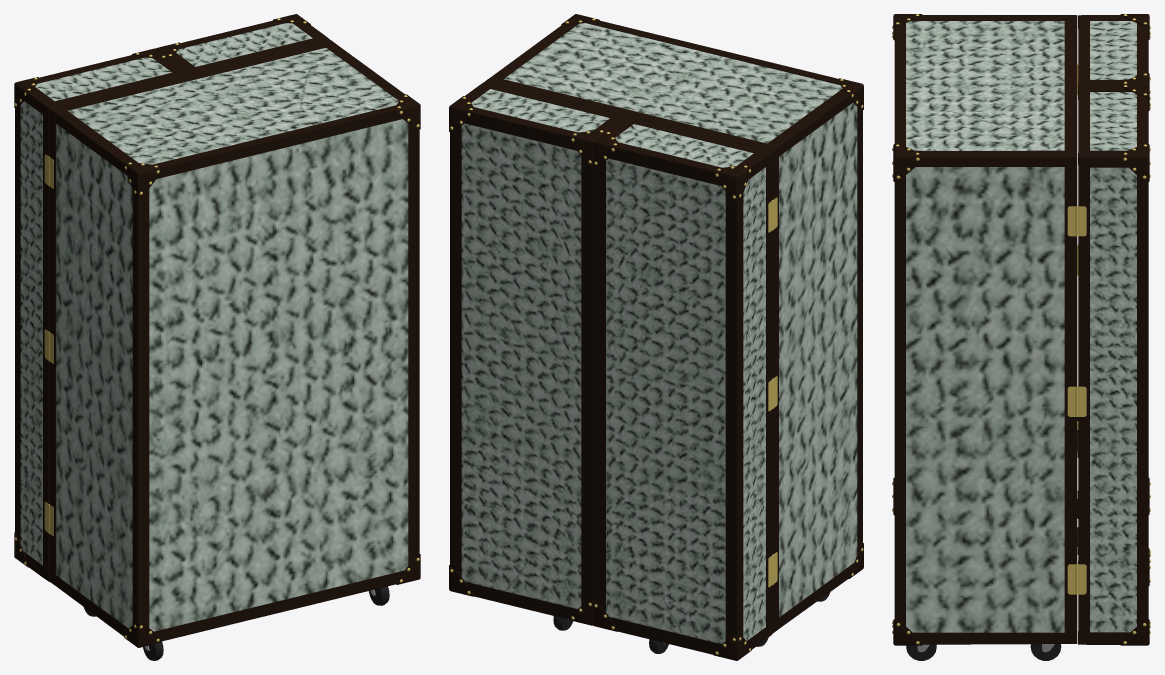
The model's file is bar_cabinet.dae.
3 renders of one model, left to right at view 1: azimuth 30°, elevation 25°; view 2: azimuth 150°, elevation 25°; view 3: azimuth 270°, elevation 25°, orthographic. The views are drawn at different scales.
Visible parts, largest first — view 1: bar_cabinet, body_trim, L_door, L_door_trim, R_door, body_corners, R_door_trim, L_door_corners; view 2: L_door, R_door, bar_cabinet, L_door_trim, R_door_trim, body_trim, L_door_corners, R_door_corners, body_corners; view 3: bar_cabinet, R_door, body_trim, R_door_trim, L_door, L_door_trim, body_corners, R_door_corners, R_hinge_plate_door, hinge_plate_fixed, L_door_corners.
Boxes of the visible parts, x1,y1,x2,y2 form: bar_cabinet: [56, 48, 408, 631]; body_trim: [49, 40, 419, 641]; L_door: [20, 57, 171, 564]; L_door_trim: [15, 55, 189, 581]; R_door: [176, 23, 312, 66]; body_corners: [124, 94, 420, 647]; R_door_trim: [170, 20, 330, 74]; L_door_corners: [14, 48, 169, 567]; L_door: [606, 124, 765, 644]; R_door: [461, 89, 609, 608]; bar_cabinet: [504, 23, 857, 617]; L_door_trim: [593, 116, 772, 654]; R_door_trim: [450, 81, 627, 619]; body_trim: [485, 20, 862, 633]; L_door_corners: [593, 131, 751, 660]; R_door_corners: [449, 96, 606, 625]; body_corners: [561, 14, 863, 578]; bar_cabinet: [906, 21, 1064, 632]; R_door: [1090, 92, 1136, 632]; body_trim: [894, 15, 1077, 644]; R_door_trim: [1078, 85, 1148, 644]; L_door: [1090, 21, 1136, 79]; L_door_trim: [1078, 15, 1148, 563]; body_corners: [892, 14, 922, 645]; R_door_corners: [1120, 85, 1150, 645]; R_hinge_plate_door: [1077, 205, 1086, 594]; hinge_plate_fixed: [1067, 206, 1075, 594]; L_door_corners: [1120, 14, 1150, 562].
Bounding box in the file's own units: 0.3655 × 0.6171 × 0.2784.
9 materials, 3 textured.
